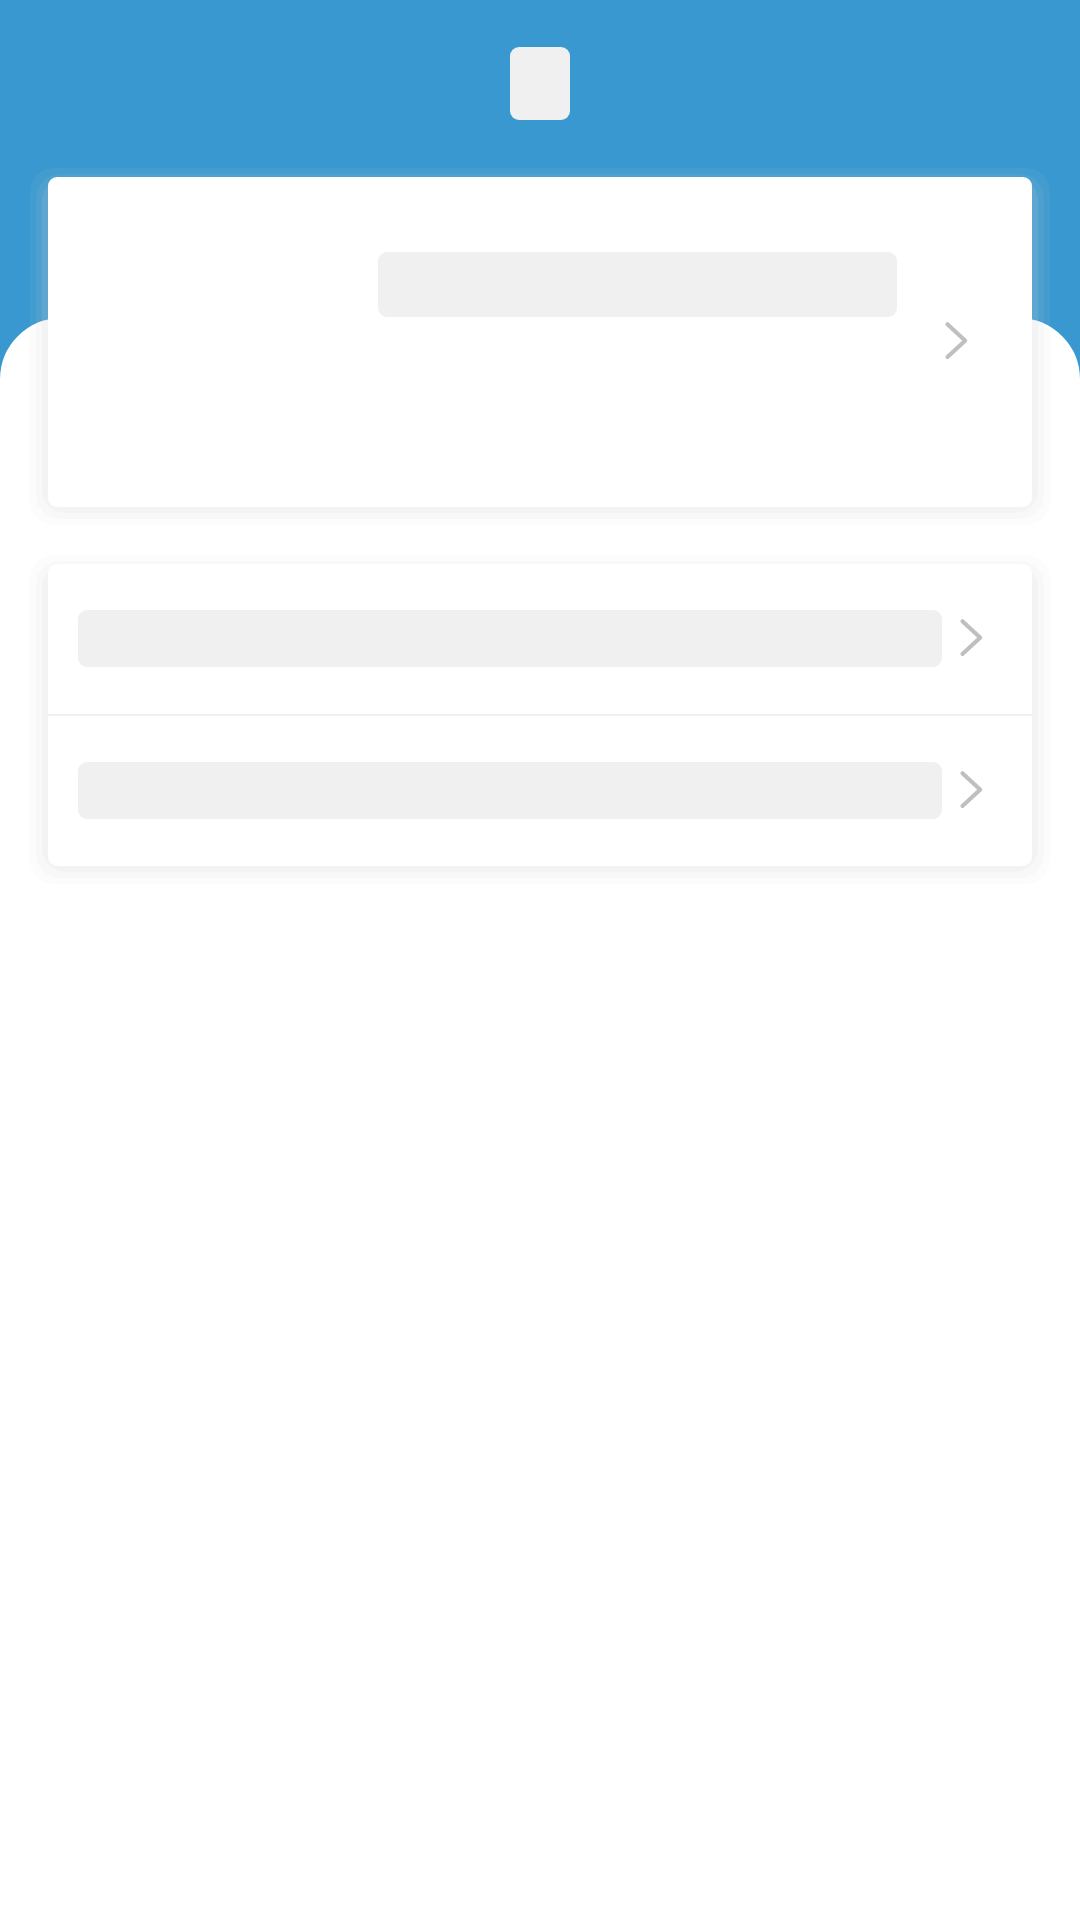

Icons on this 1080px×1920px Android screen, each with the point to tap as [x,y]:
right bfgray: [956,340], [971,637], [971,789]
